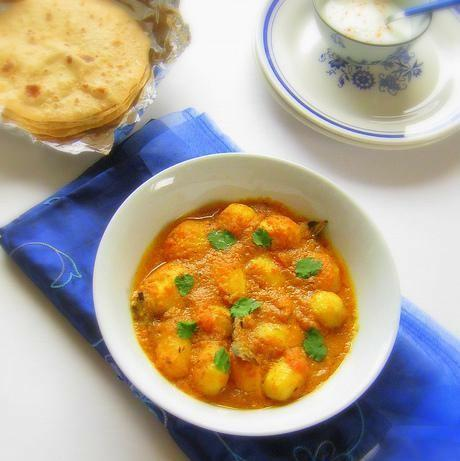DumAloo: (130, 198, 358, 409)
